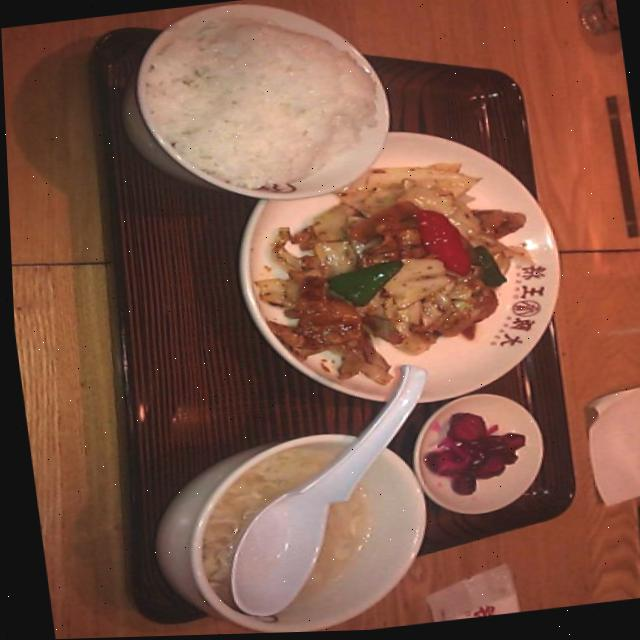汤锅炖物: (156, 420, 430, 637)
米饭主食: (100, 0, 414, 220)
